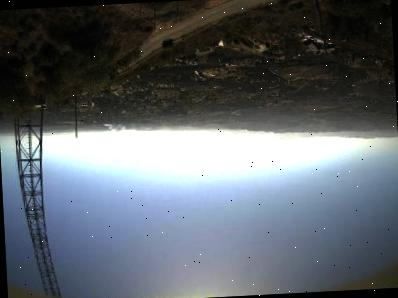smoke: (101, 122, 169, 140)
